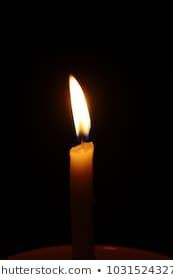fire: (68, 73, 92, 142)
